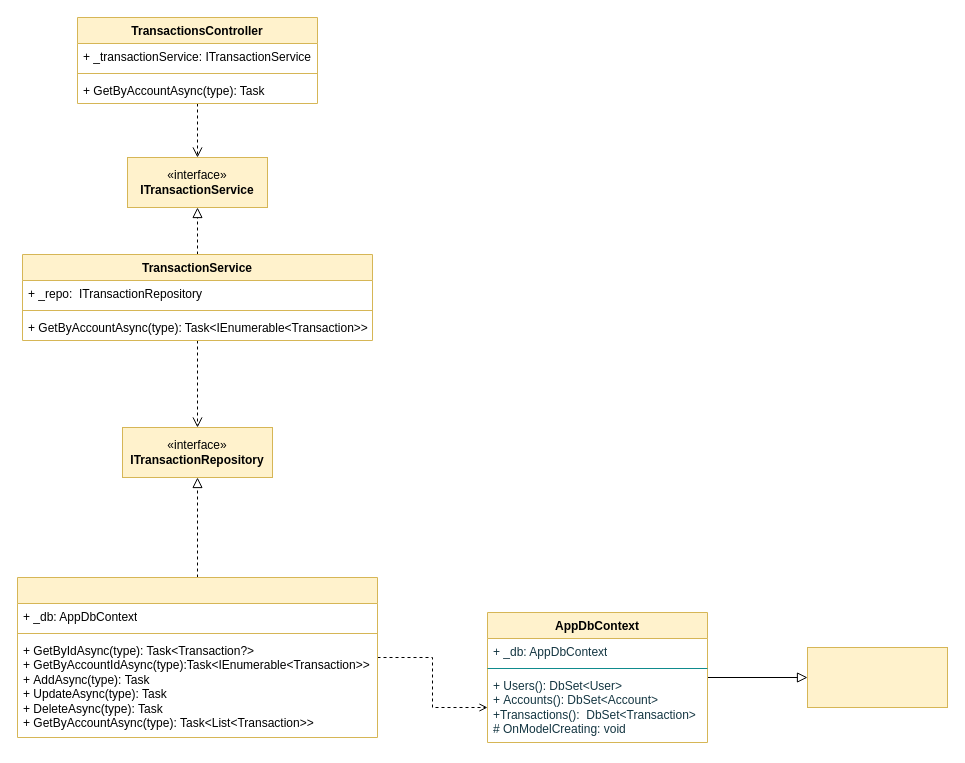
The diagram is 965 pixels wide and 763 high, and some of its shapes have lost their labels. The shapes that lost their labels are listed below. From the top down, each one's box as (x1, y1, x2, y2) in pixels, then its label:
(16, 576, 378, 738): TransactionRepository
(806, 646, 948, 708): DbContext
